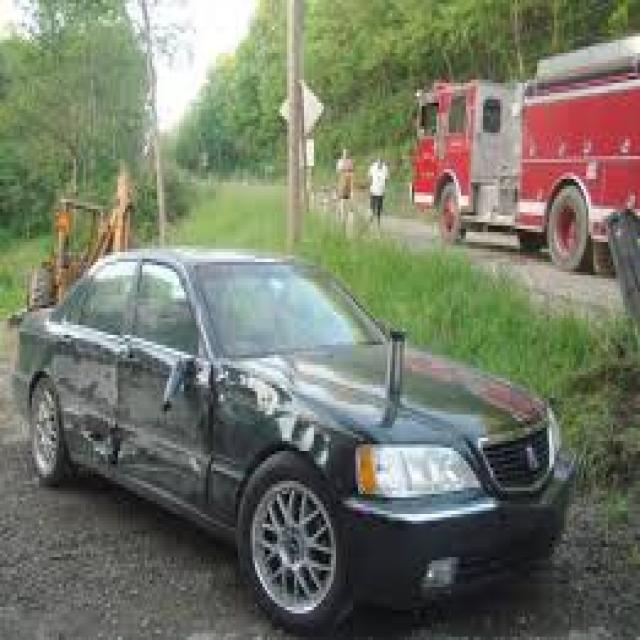moderate: (34, 278, 373, 604)
